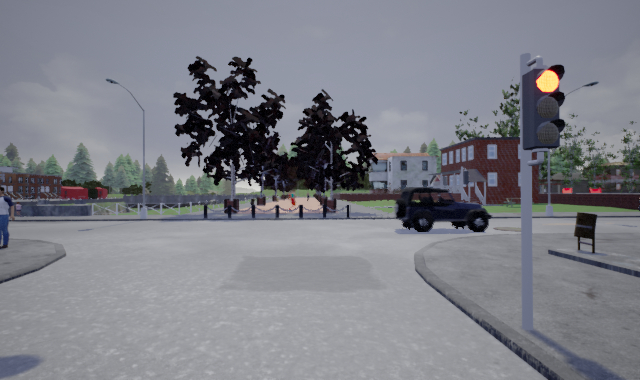pedestrian: (1, 184, 24, 249), (286, 188, 298, 211), (11, 200, 25, 217)
traffic_light: (521, 63, 566, 151)
vehicle: (394, 186, 494, 233)
